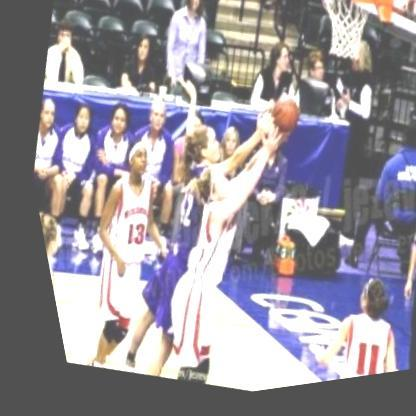basketball: (253, 92, 306, 148)
rim: (296, 0, 393, 81)
